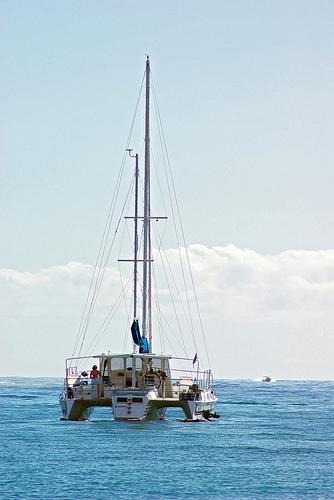Ship: (62, 57, 221, 425)
